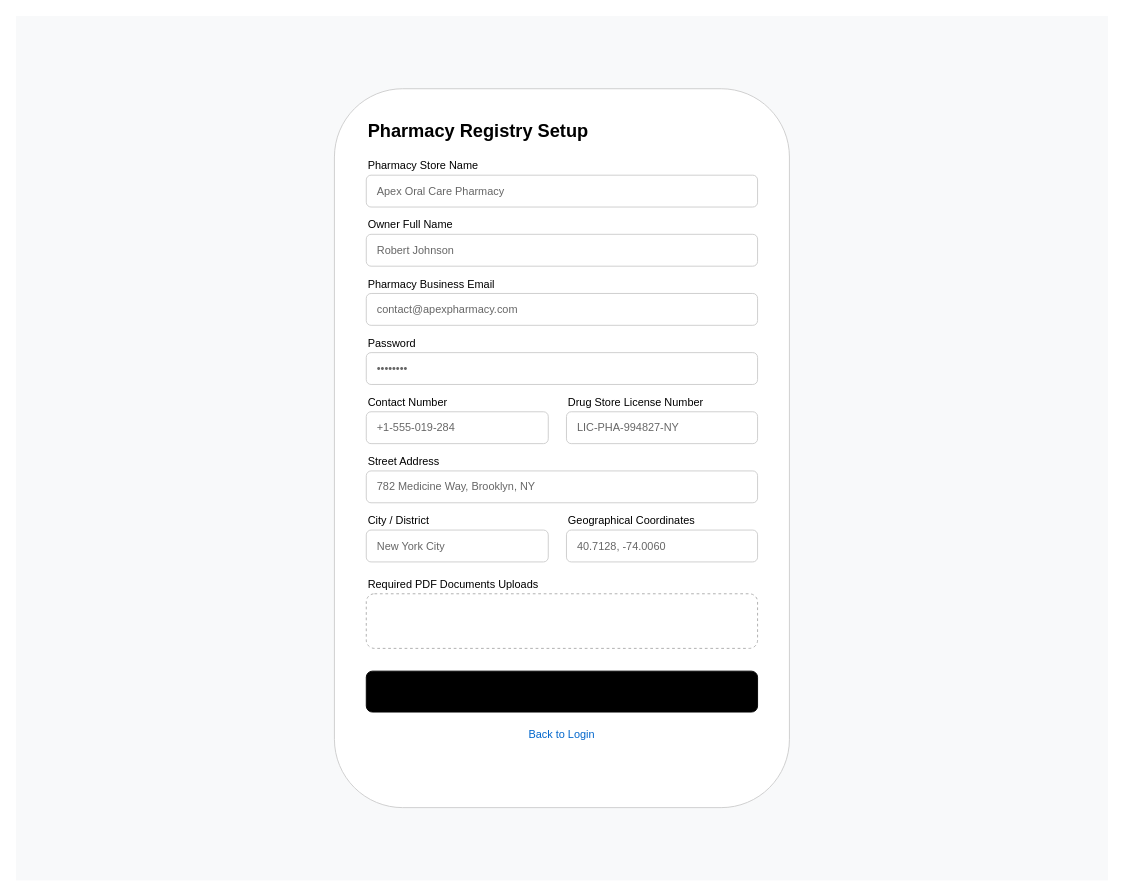
The diagram is 1123 pixels wide and 895 high, and some of its shapes have lost their labels. Each missing label, with the box of its shape:
[Icon] Pharmacy License + Pharmacist Qualification PDFs: (365, 593, 758, 648)
Register Pharmacy Branch: (365, 670, 758, 712)
